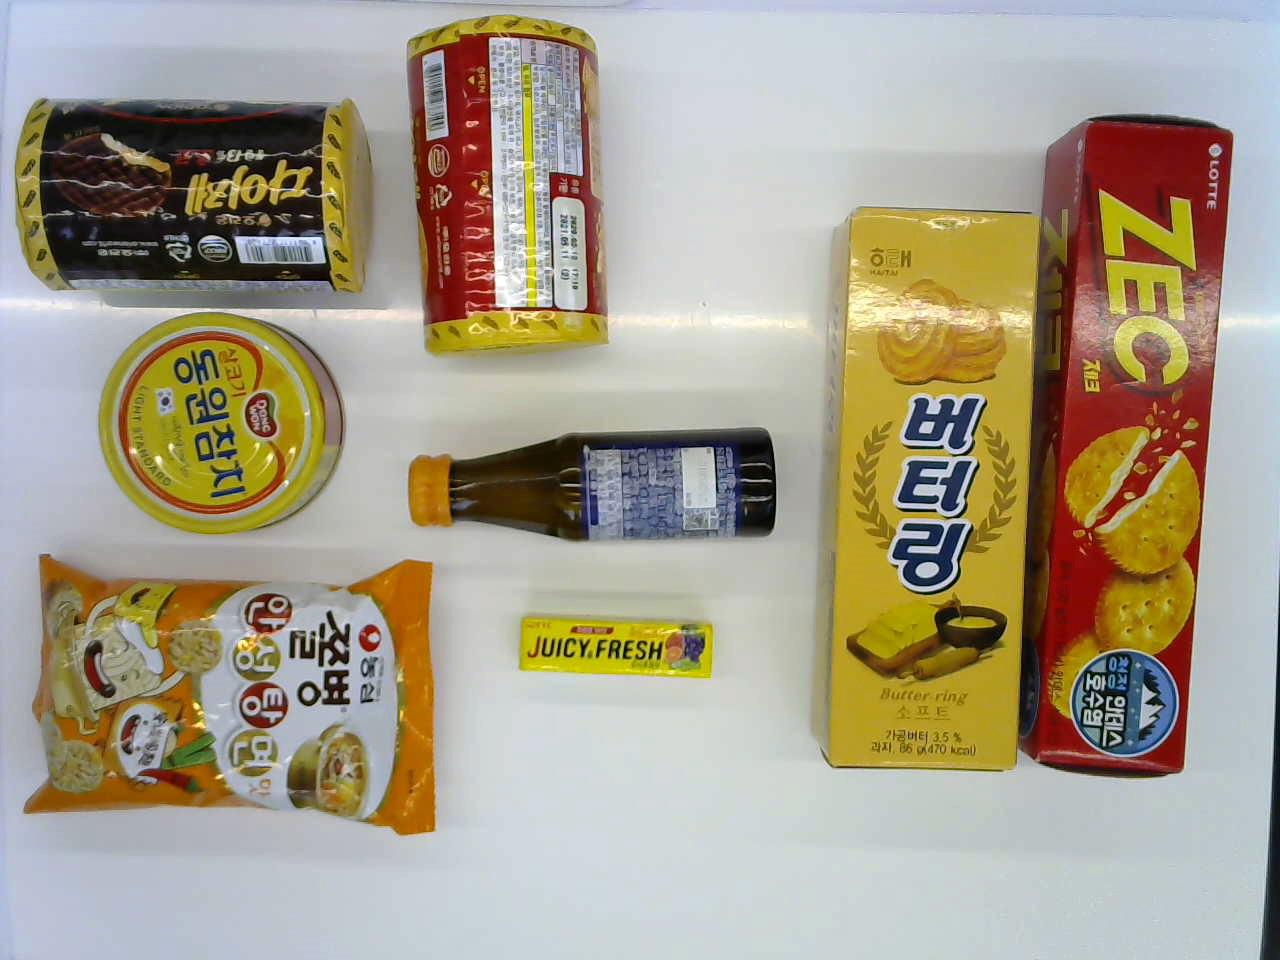buttering: (811, 190, 1031, 770)
diget_choco: (13, 82, 372, 301)
diget_ori: (404, 15, 616, 354)
jjolbyung_noodle: (29, 549, 462, 838)
juicyfresh: (489, 602, 712, 688)
tuna: (92, 313, 348, 535)
vita500: (397, 419, 778, 549)
zec: (1030, 107, 1232, 789)
